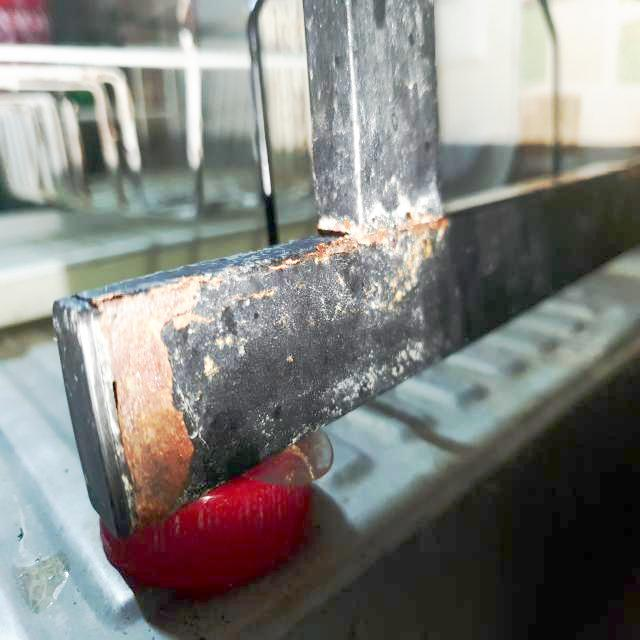Corrosion: (95, 277, 203, 524), (338, 225, 426, 245), (309, 236, 359, 264), (318, 215, 371, 234), (233, 288, 278, 306), (172, 311, 210, 330), (416, 218, 449, 236), (195, 271, 224, 290), (269, 258, 301, 272)
